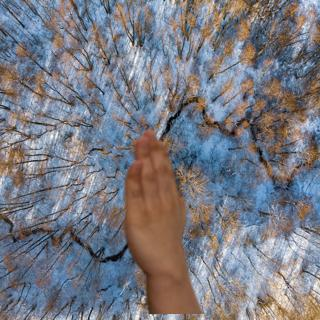RIGHT: (117, 126, 196, 283)
